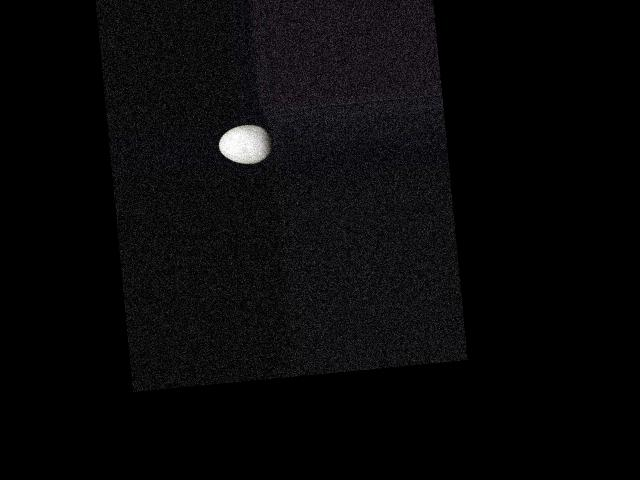egg: (217, 122, 274, 165)
